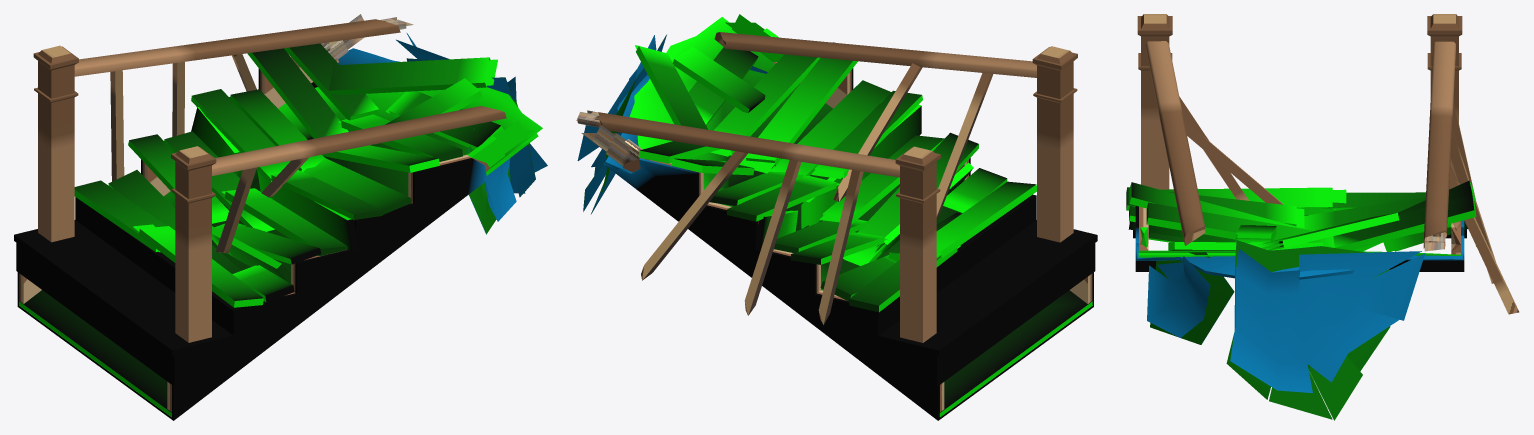
File: DBK_Stairs_Wood_Short_Damage_Bottom.FBX
3 renders of one model, left to right at view 1: azimuth 30°, elevation 25°; view 2: azimuth 150°, elevation 25°; view 3: azimuth 270°, elevation 25°, orthographic. The views are drawn at different scales.
Visible parts, largest first — view 1: DBK_Stairs_Wood_Short_Damage_Bottom, DBK_Stairs_Wood_Short_Damage_Bottom_Drywall, DBK_Stairs_Wood_Short_Damage_Bottom_Rail_L, DBK_Stairs_Wood_Short_Damage_Bottom_Rail_R, DBK_Stairs_Wood_Short_Damage_Bottom_Plywood, DBK_Stairs_Wood_Short_Damage_Bottom_Support; view 2: DBK_Stairs_Wood_Short_Damage_Bottom, DBK_Stairs_Wood_Short_Damage_Bottom_Rail_L, DBK_Stairs_Wood_Short_Damage_Bottom_Drywall, DBK_Stairs_Wood_Short_Damage_Bottom_Rail_R, DBK_Stairs_Wood_Short_Damage_Bottom_Plywood, DBK_Stairs_Wood_Short_Damage_Bottom_Support; view 3: DBK_Stairs_Wood_Short_Damage_Bottom_Drywall, DBK_Stairs_Wood_Short_Damage_Bottom, DBK_Stairs_Wood_Short_Damage_Bottom_Rail_R, DBK_Stairs_Wood_Short_Damage_Bottom_Rail_L, DBK_Stairs_Wood_Short_Damage_Bottom_Plywood, DBK_Stairs_Wood_Short_Damage_Bottom_Support.
Boxes of the visible parts, left/top/right/bottom form: DBK_Stairs_Wood_Short_Damage_Bottom: left=14, top=43, right=534, bottom=386; DBK_Stairs_Wood_Short_Damage_Bottom_Drywall: left=17, top=33, right=547, bottom=420; DBK_Stairs_Wood_Short_Damage_Bottom_Rail_L: left=33, top=17, right=413, bottom=242; DBK_Stairs_Wood_Short_Damage_Bottom_Rail_R: left=171, top=106, right=506, bottom=342; DBK_Stairs_Wood_Short_Damage_Bottom_Plywood: left=19, top=62, right=542, bottom=417; DBK_Stairs_Wood_Short_Damage_Bottom_Support: left=19, top=14, right=489, bottom=412; DBK_Stairs_Wood_Short_Damage_Bottom: left=635, top=14, right=1097, bottom=386; DBK_Stairs_Wood_Short_Damage_Bottom_Rail_L: left=576, top=110, right=940, bottom=342; DBK_Stairs_Wood_Short_Damage_Bottom_Drywall: left=577, top=34, right=1093, bottom=420; DBK_Stairs_Wood_Short_Damage_Bottom_Rail_R: left=714, top=32, right=1077, bottom=242; DBK_Stairs_Wood_Short_Damage_Bottom_Plywood: left=629, top=17, right=1092, bottom=416; DBK_Stairs_Wood_Short_Damage_Bottom_Support: left=581, top=62, right=1092, bottom=411; DBK_Stairs_Wood_Short_Damage_Bottom_Drywall: left=1135, top=206, right=1464, bottom=420; DBK_Stairs_Wood_Short_Damage_Bottom: left=1126, top=180, right=1476, bottom=251; DBK_Stairs_Wood_Short_Damage_Bottom_Rail_R: left=1137, top=14, right=1283, bottom=245; DBK_Stairs_Wood_Short_Damage_Bottom_Rail_L: left=1423, top=14, right=1519, bottom=314; DBK_Stairs_Wood_Short_Damage_Bottom_Plywood: left=1138, top=250, right=1460, bottom=257; DBK_Stairs_Wood_Short_Damage_Bottom_Support: left=1139, top=206, right=1460, bottom=254.
Bounding box in the file's own units: 215 × 124 × 165.
